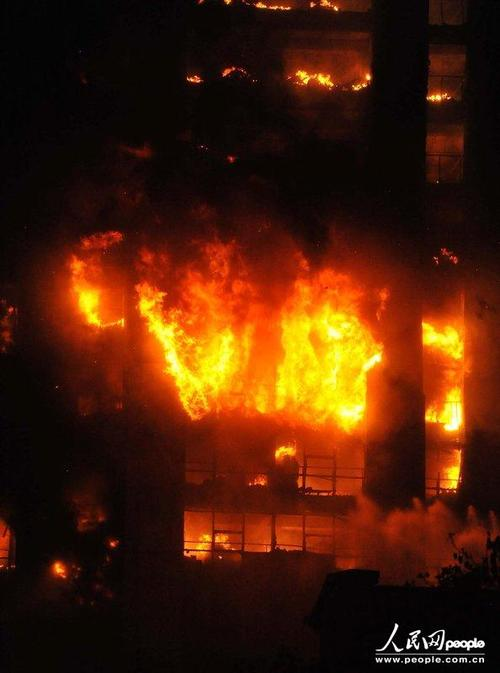fire: (78, 226, 485, 458)
smoke: (19, 32, 339, 217)
